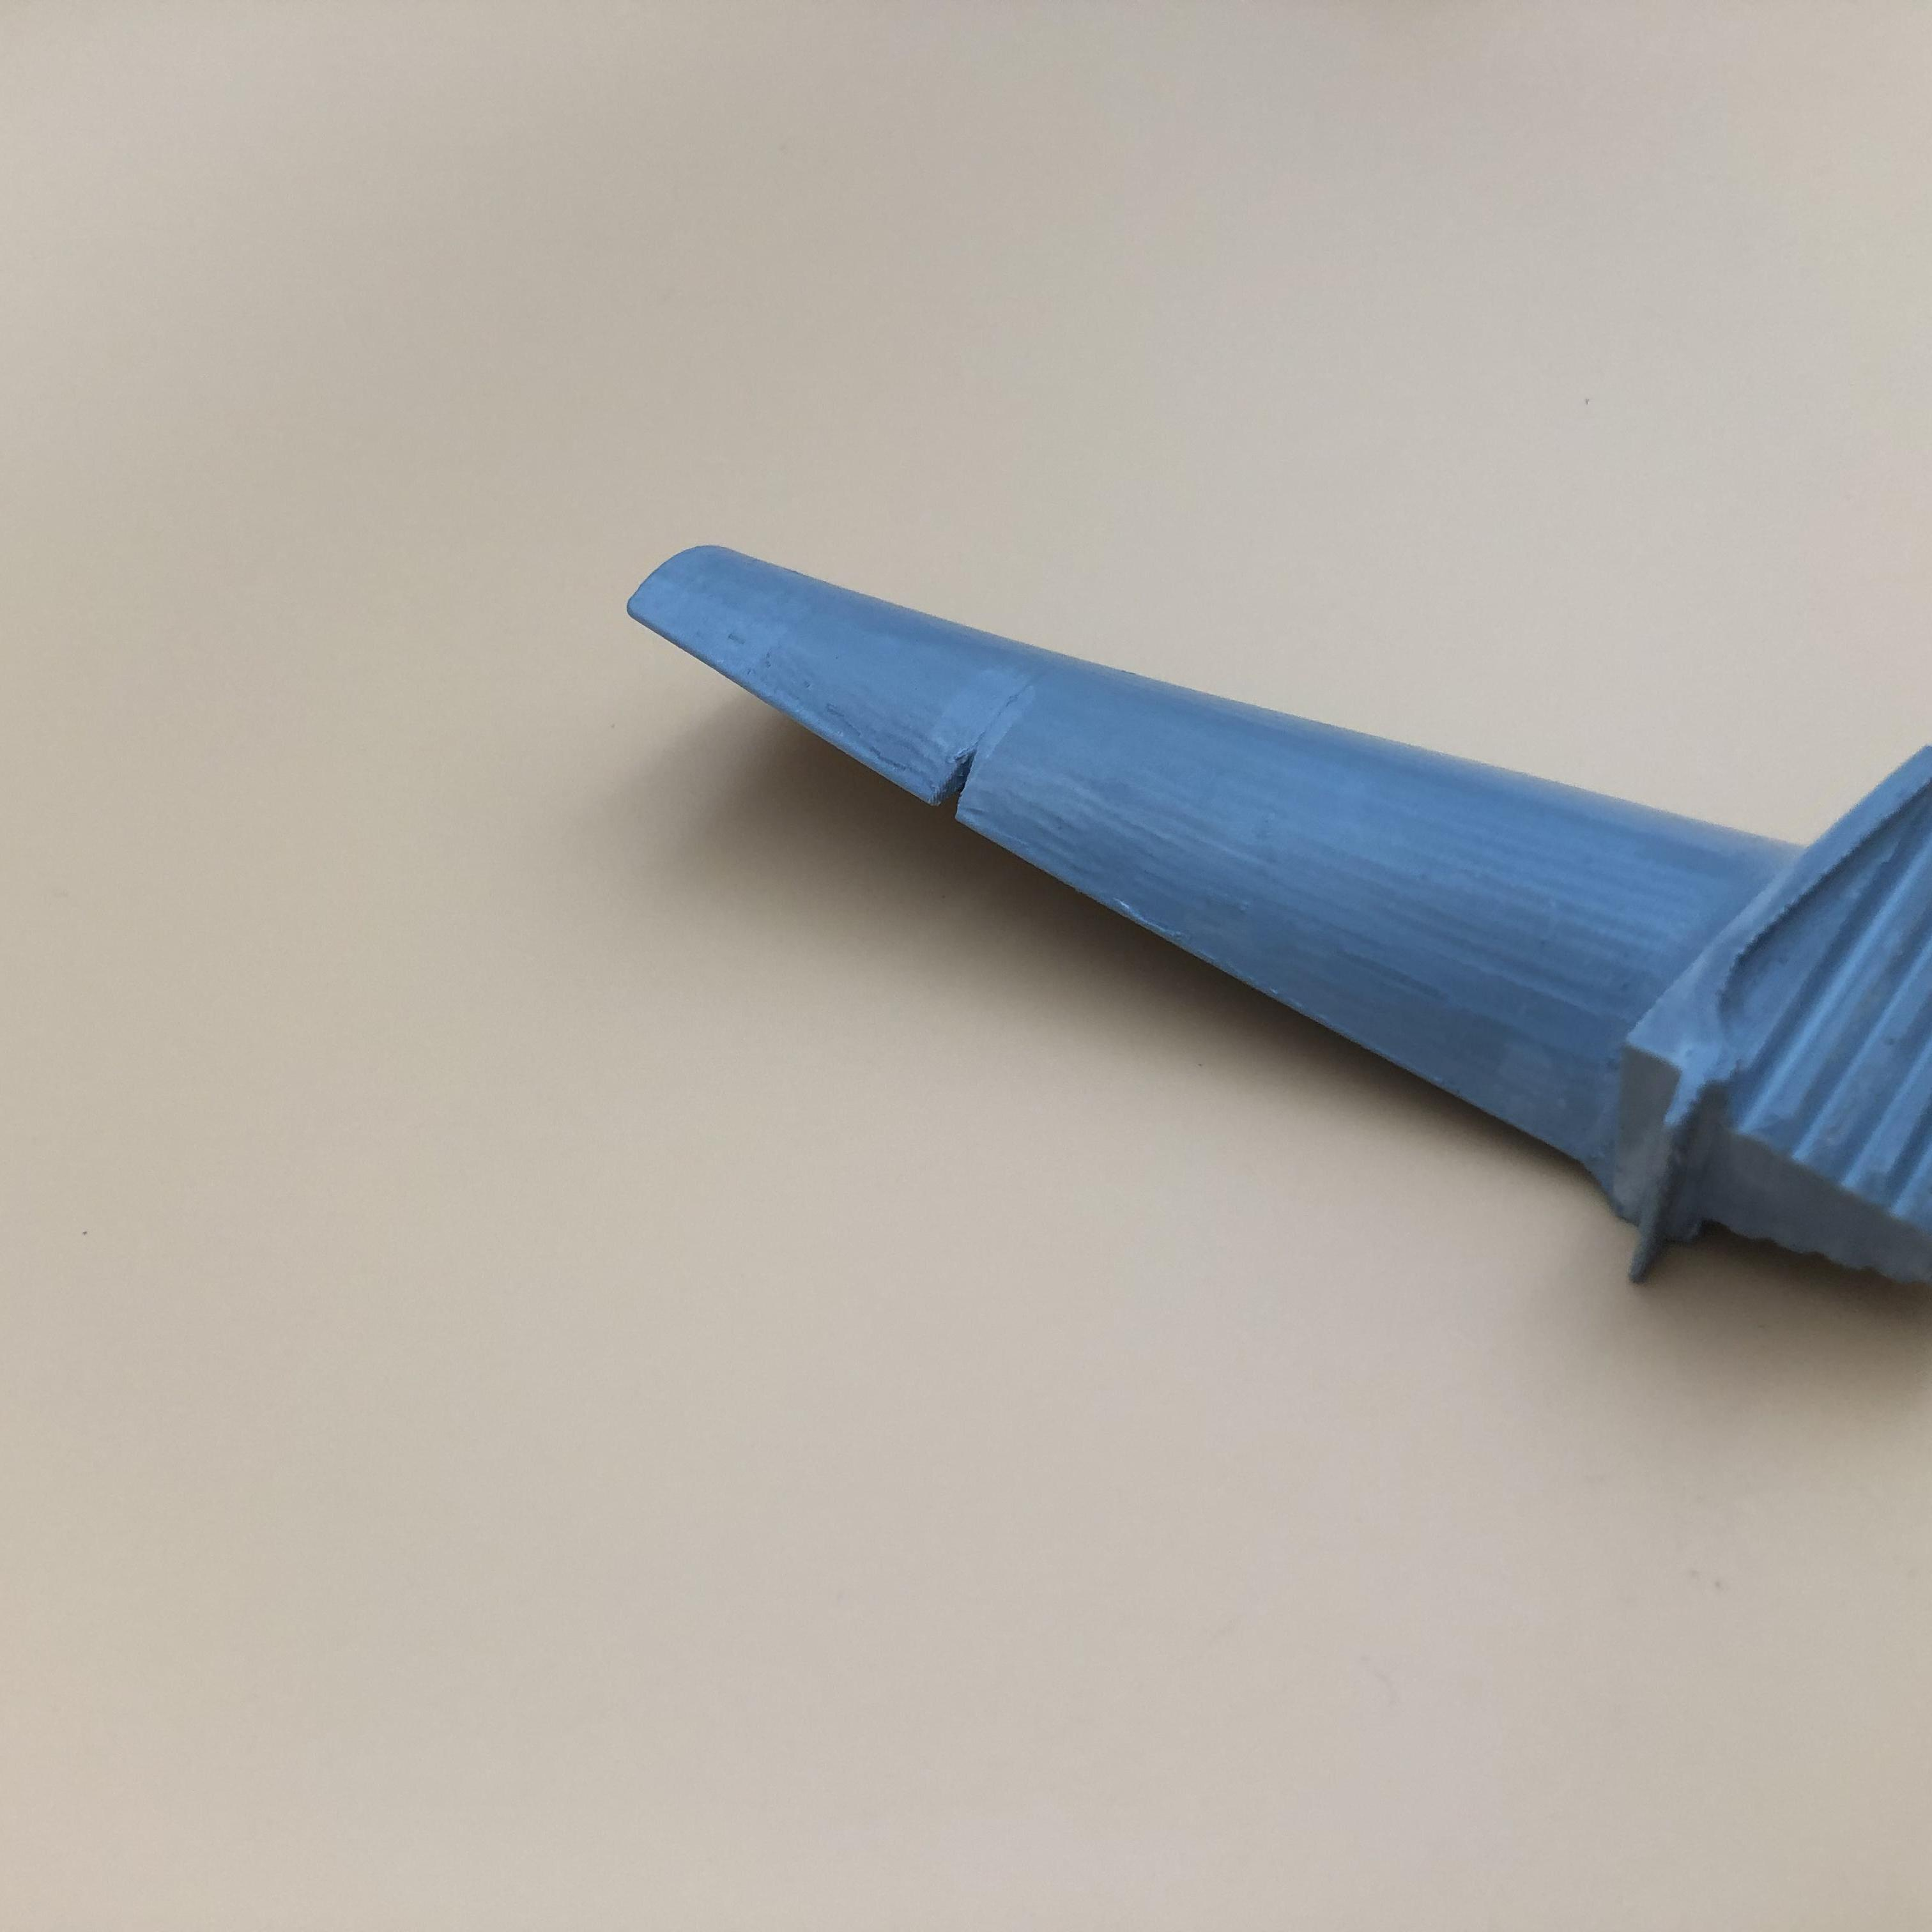groove: (929, 741, 984, 810)
